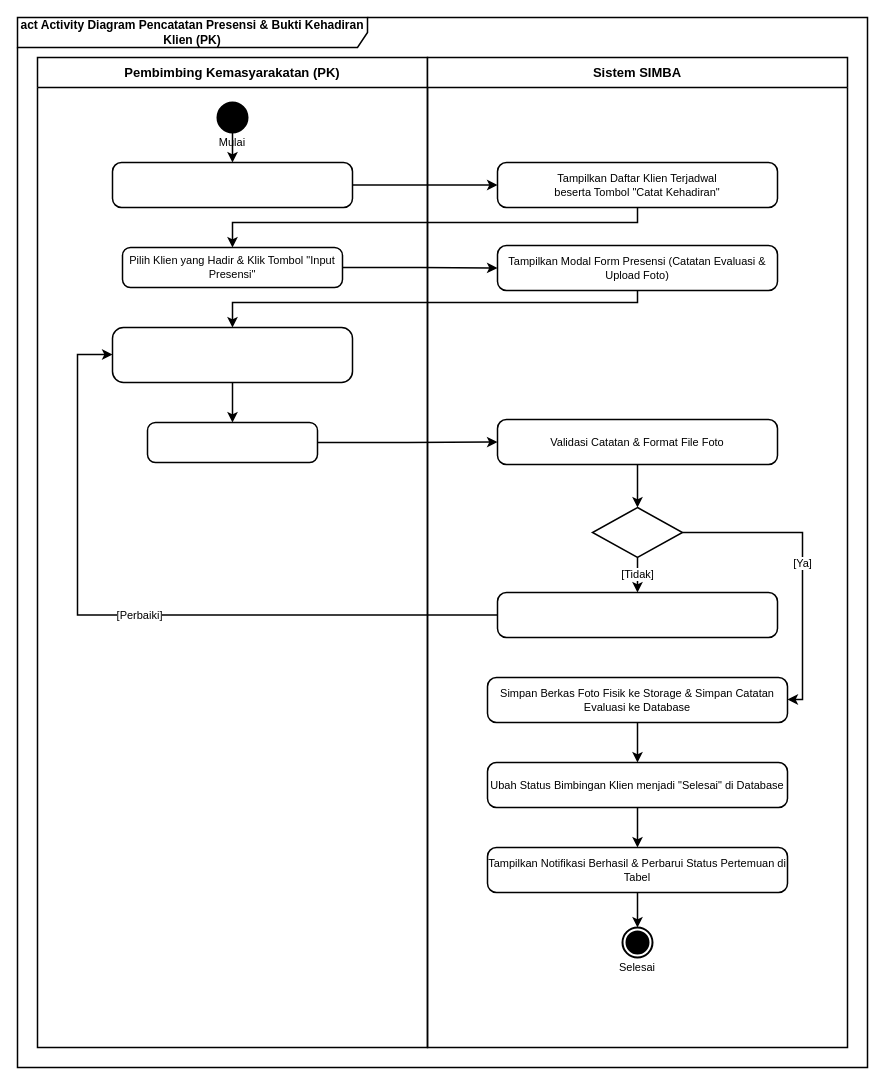
Some shapes in this 886 by 1086 pixel diagram are drawn without their labels. Here are the shapes that lost their labels. From the top down, the centre of each, then its label:
point 232,184: Klien Hadir Wajib Lapor; PK Akses Menu "Catatan Kehadiran"
point 232,354: Isi Catatan Bimbingan Klien & Unggah Foto Bukti Fisik Kehadiran
point 232,442: Klik Tombol "Simpan Presensi"
point 637,532: Valid?
point 637,614: Tampilkan Peringatan: "Catatan & Foto Bukti Wajib Dilengkapi!"
